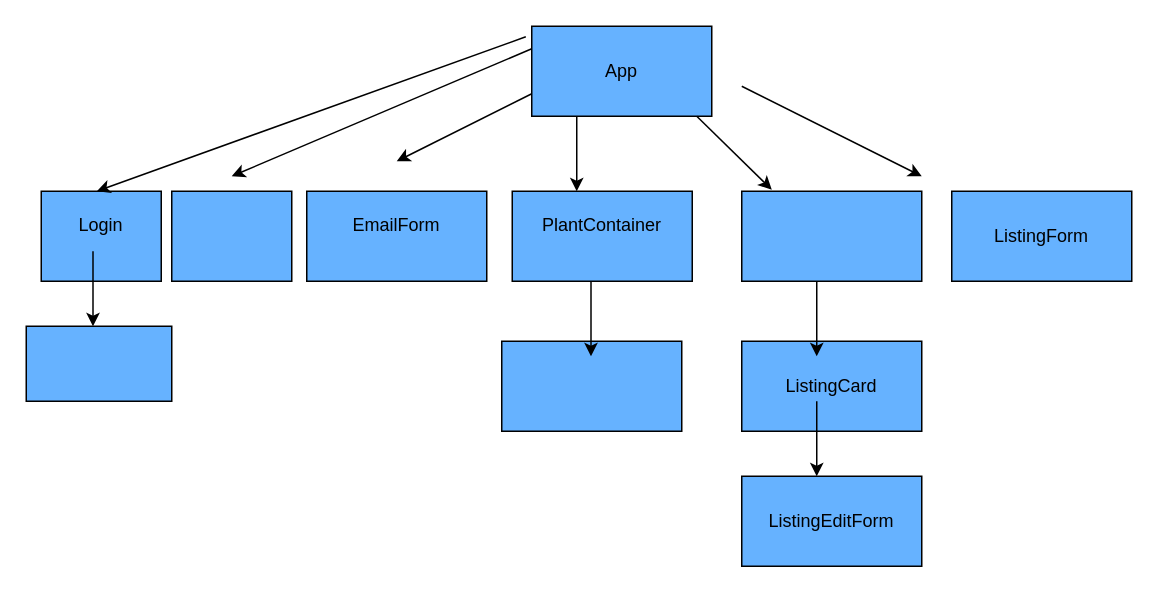
Some shapes in this 1158 by 593 pixel diagram are drawn without their labels. The shapes that lost their labels are listed below. From the top down, each one's centre as x and y in pixels, then its label:
pixel 231 235: Signup
pixel 831 235: ListingContainer
pixel 98 363: LoginEditForm
pixel 591 385: PlantCard
